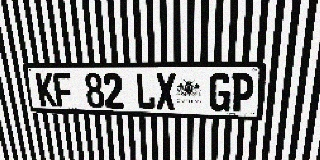2: (103, 73, 124, 109)
8: (84, 73, 105, 108)
F: (52, 73, 74, 107)
G: (209, 73, 231, 112)
K: (35, 73, 57, 107)
L: (135, 73, 156, 110)
P: (230, 73, 255, 112)
X: (155, 73, 176, 110)
